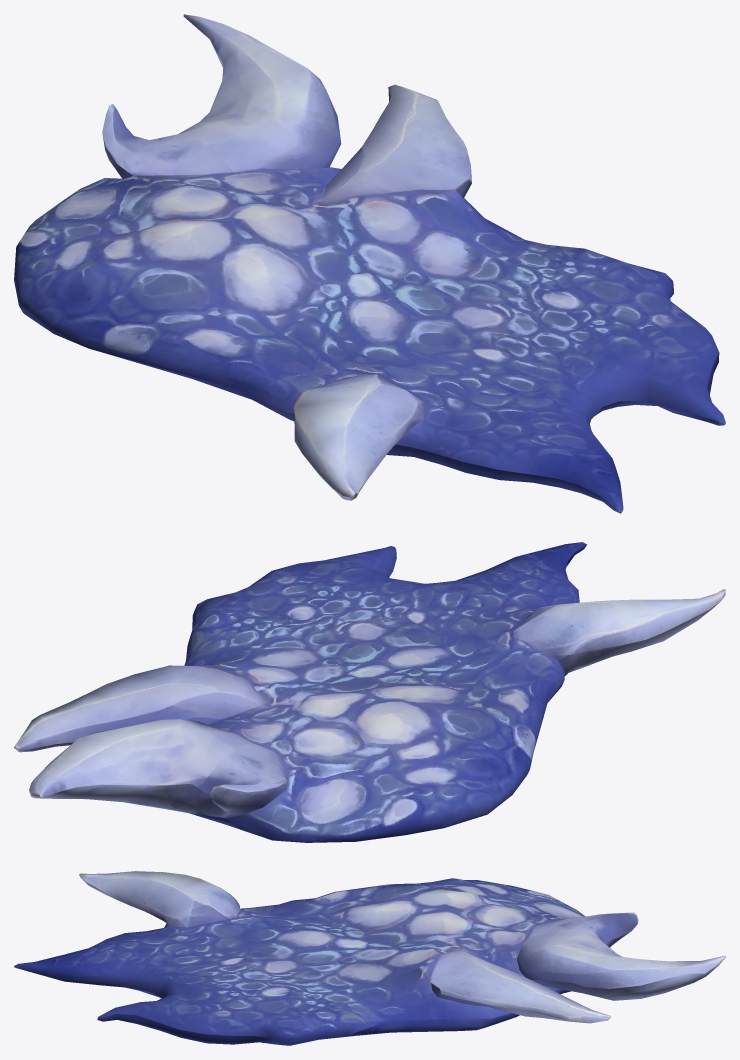
The picture shows the model from 3 angles, top to bottom: view 1: azimuth 30°, elevation 25°; view 2: azimuth 150°, elevation 25°; view 3: azimuth 270°, elevation 25°; orthographic projection. The views are drawn at different scales.
Visible parts, largest first — view 1: SM_Dragon_Hide_Blue_01_LOD0; view 2: SM_Dragon_Hide_Blue_01_LOD0; view 3: SM_Dragon_Hide_Blue_01_LOD0.
Boxes of the visible parts, x1,y1,x2,y2 form: SM_Dragon_Hide_Blue_01_LOD0: (14,14,725,513); SM_Dragon_Hide_Blue_01_LOD0: (14,542,725,842); SM_Dragon_Hide_Blue_01_LOD0: (14,871,725,1045).
Bounding box in the file's own units: 0.4668 × 0.0753 × 0.8784.
1 material, 1 textured.
